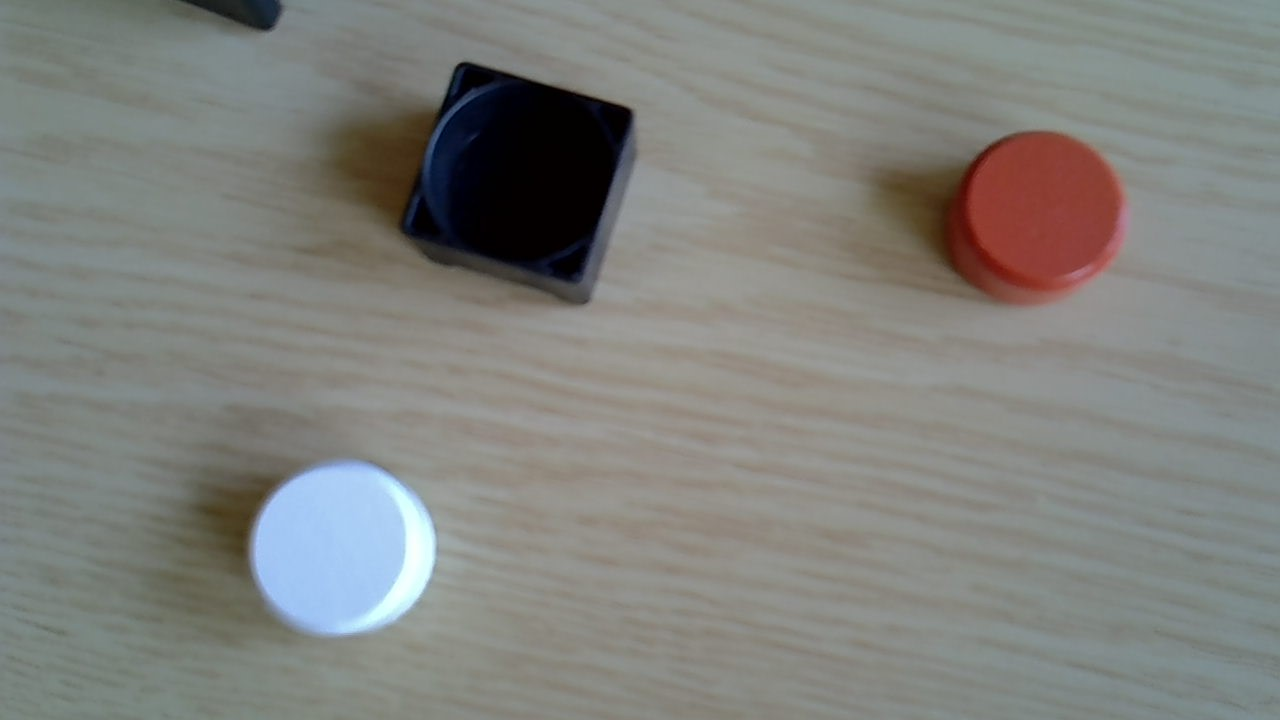Behaelter: (402, 61, 639, 310)
WerkStueck: (246, 457, 439, 641), (943, 130, 1130, 309)
